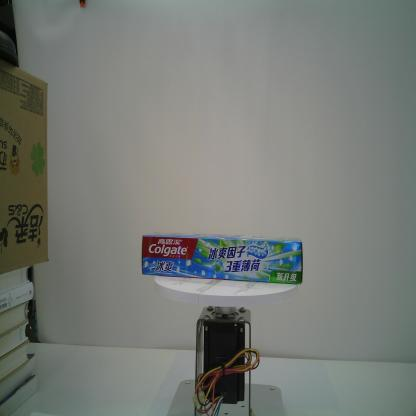Personal Hygiene: (140, 232, 306, 287)
